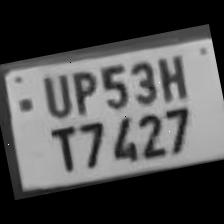2: (130, 107, 168, 162)
3: (124, 56, 159, 106)
4: (102, 109, 140, 165)
5: (94, 58, 132, 110)
7: (71, 114, 110, 170), (158, 101, 197, 156)
H: (151, 50, 192, 104)
P: (64, 62, 102, 118)
T: (42, 118, 84, 176)
U: (34, 69, 74, 121)
